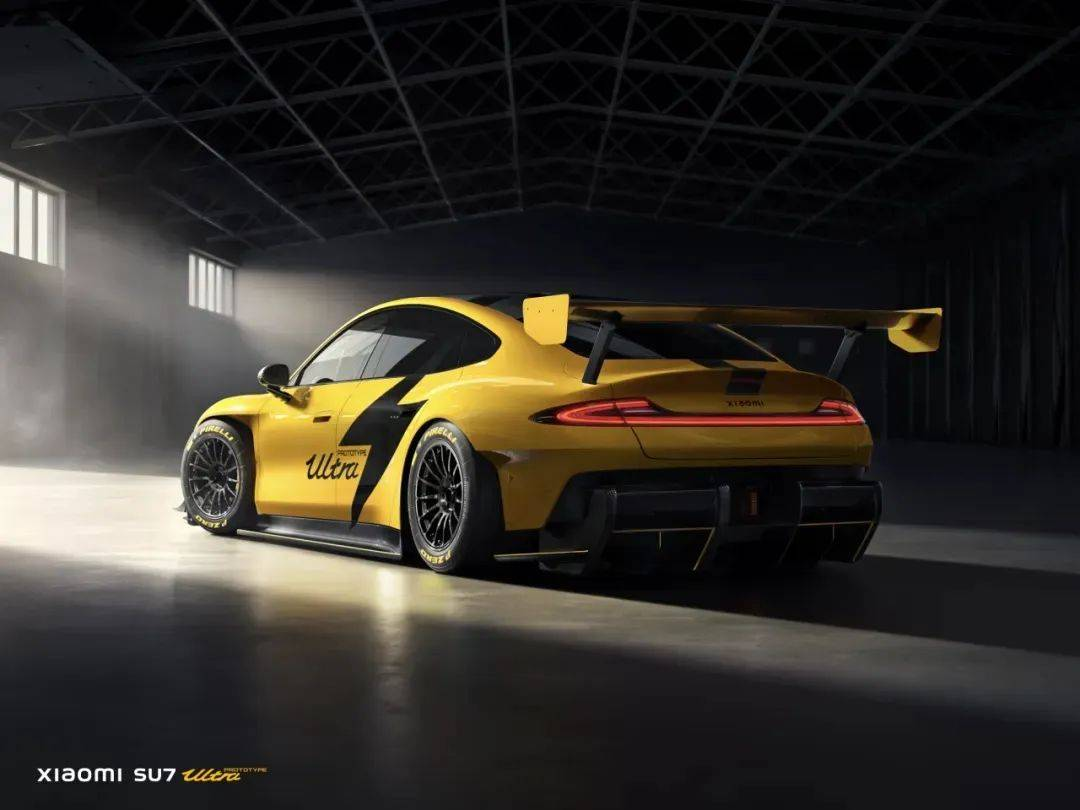su7: (173, 299, 947, 580)
